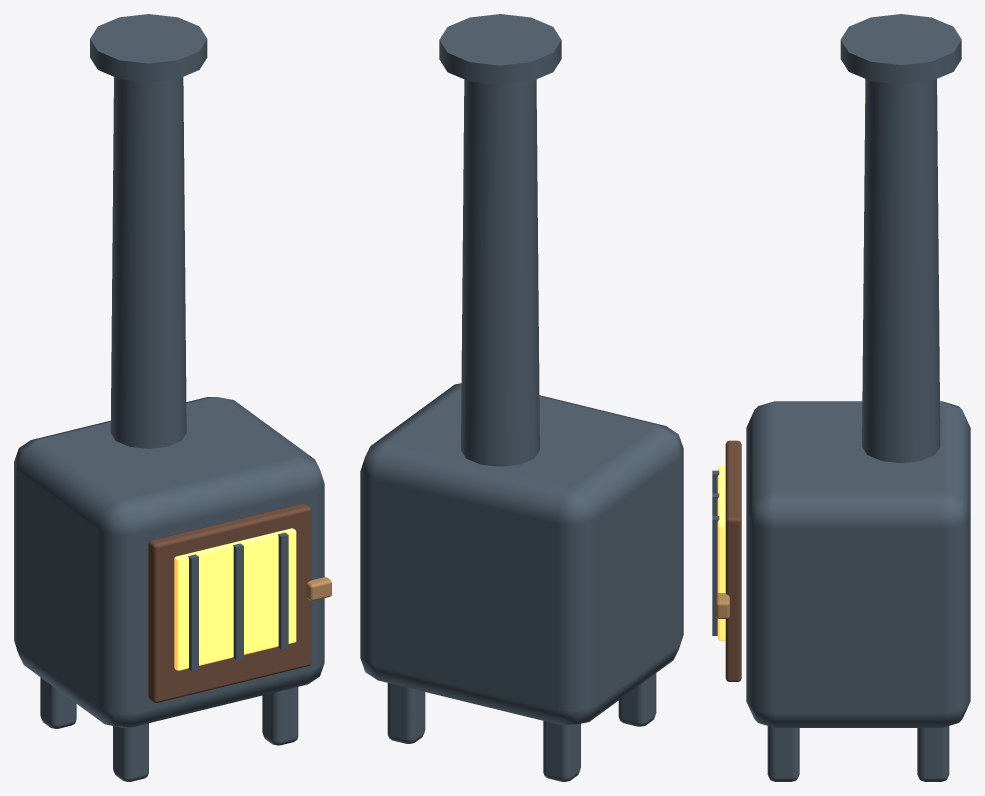
File: alpine-snow-village-cast-iron-cabin-stove-189f1e06.glb
3 renders of one model, left to right at view 1: azimuth 30°, elevation 25°; view 2: azimuth 150°, elevation 25°; view 3: azimuth 270°, elevation 25°, orthographic. The views are drawn at different scales.
Parts seen in each view (by area): view 1: cast-iron-cabin-stove-iron, cast-iron-cabin-stove-wood, cast-iron-cabin-stove-amber; view 2: cast-iron-cabin-stove-iron; view 3: cast-iron-cabin-stove-iron, cast-iron-cabin-stove-wood, cast-iron-cabin-stove-amber.
Part boxes in pixels (<box>): cast-iron-cabin-stove-iron: <box>14,14,324,781</box>; cast-iron-cabin-stove-wood: <box>148,503,311,702</box>; cast-iron-cabin-stove-amber: <box>174,528,296,670</box>; cast-iron-cabin-stove-iron: <box>360,14,683,781</box>; cast-iron-cabin-stove-iron: <box>712,14,970,781</box>; cast-iron-cabin-stove-wood: <box>725,440,741,681</box>; cast-iron-cabin-stove-amber: <box>717,466,725,640</box>.
Bounding box in the file's own units: 0.75 × 2.17 × 0.7251.
